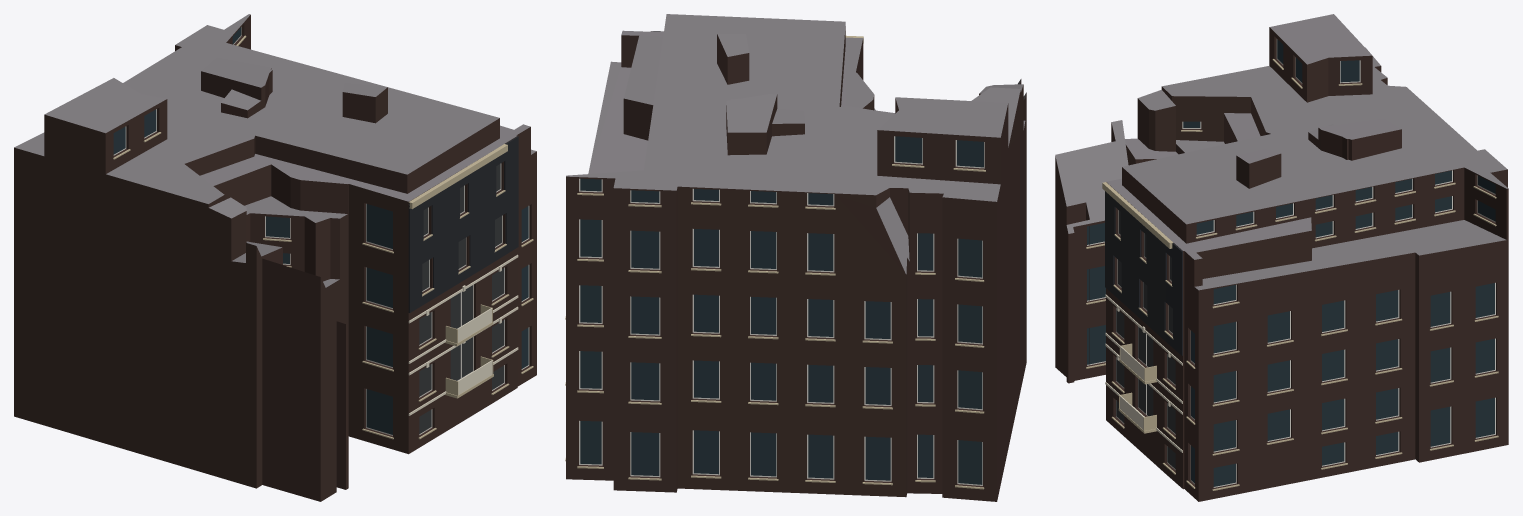
File: recipe-large-van-eeghenstraat-180-236607.glb
3 views of the same model, side by side, from view 1: azimuth 30°, elevation 25°; view 2: azimuth 150°, elevation 25°; view 3: azimuth 270°, elevation 25° (orthographic). The views are drawn at different scales.
Parts seen in each view (by area): view 1: van-eeghenstraat-180-236607; view 2: van-eeghenstraat-180-236607; view 3: van-eeghenstraat-180-236607.
Part boxes in pixels (<box>): van-eeghenstraat-180-236607: <box>14,14,536,501</box>; van-eeghenstraat-180-236607: <box>565,14,1026,501</box>; van-eeghenstraat-180-236607: <box>1055,14,1508,501</box>.
Size of the model in its own units: 32 by 21.88 by 30.61.
